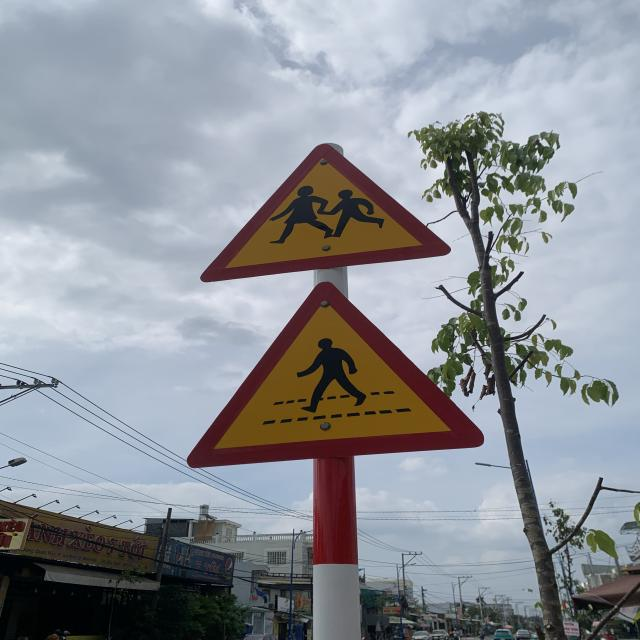Duong_Nguoi_Di_Bo_Sang_Ngang: (186, 278, 484, 471)
Vong_Xuyen: (200, 144, 453, 282)
